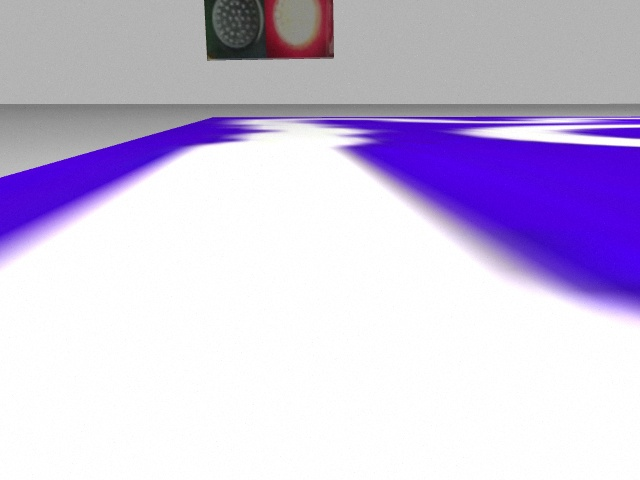red: (262, 1, 335, 58)
